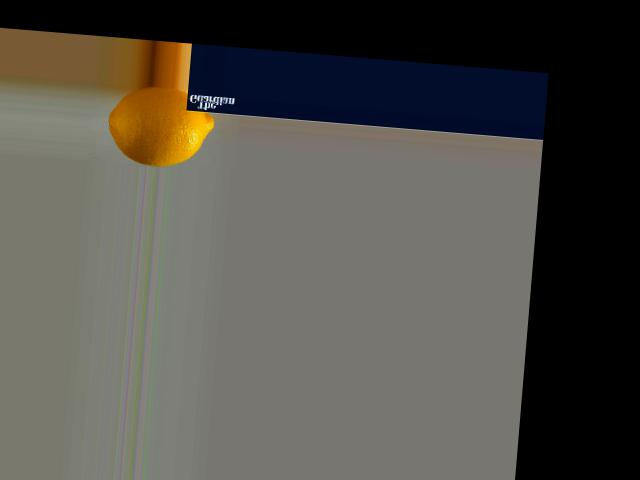lemon: (104, 82, 214, 170)
